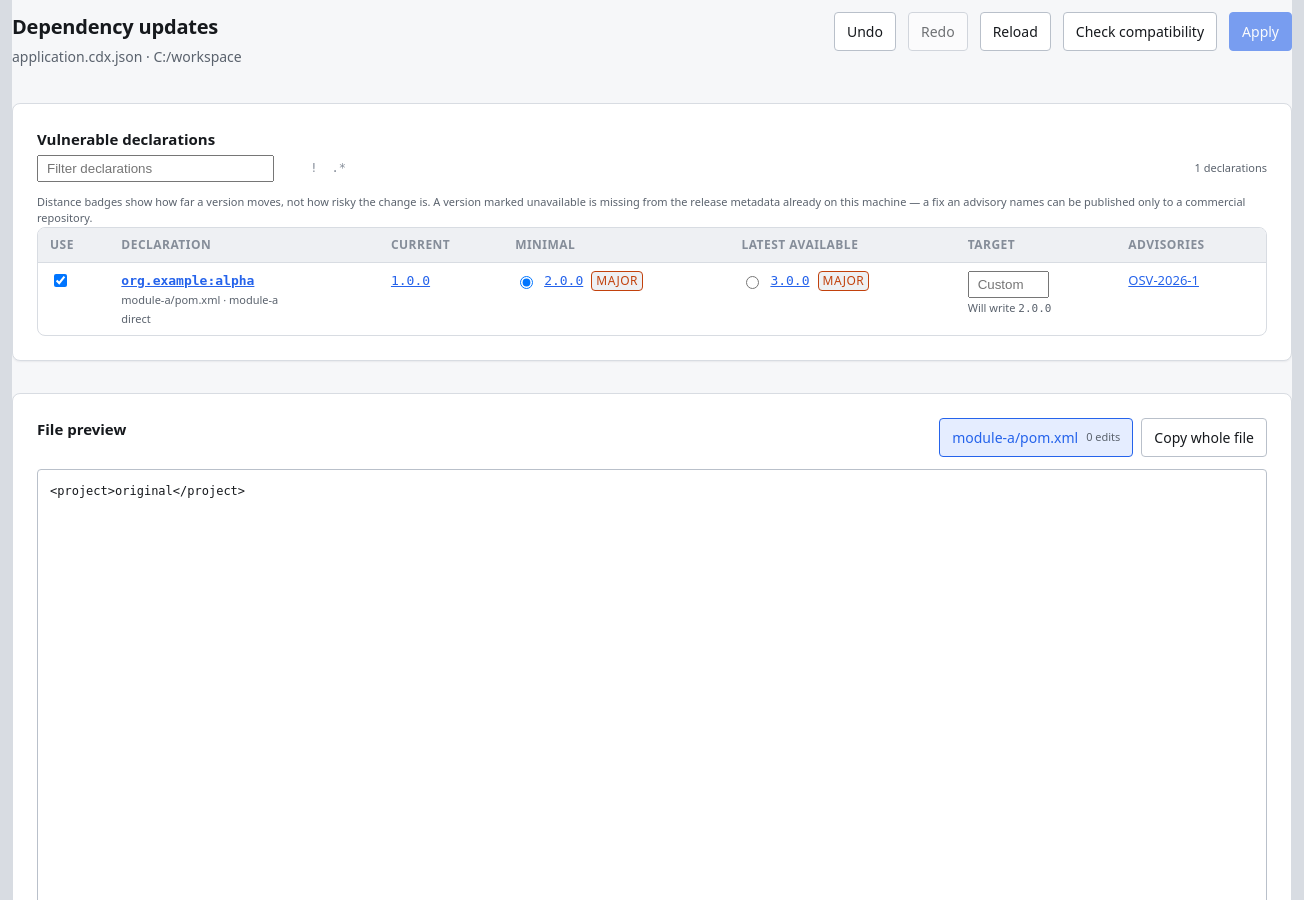
BumpPage › shows nothing rather than everything for a pattern that will not compile
The width and height of the screenshot is (1304, 900).
Expected: the checkbox named "Select org.example:alpha" is shown, [54, 274, 67, 286]
Click the button titled "Match as a regular expression" at point(339, 168), box [326, 158, 352, 178]
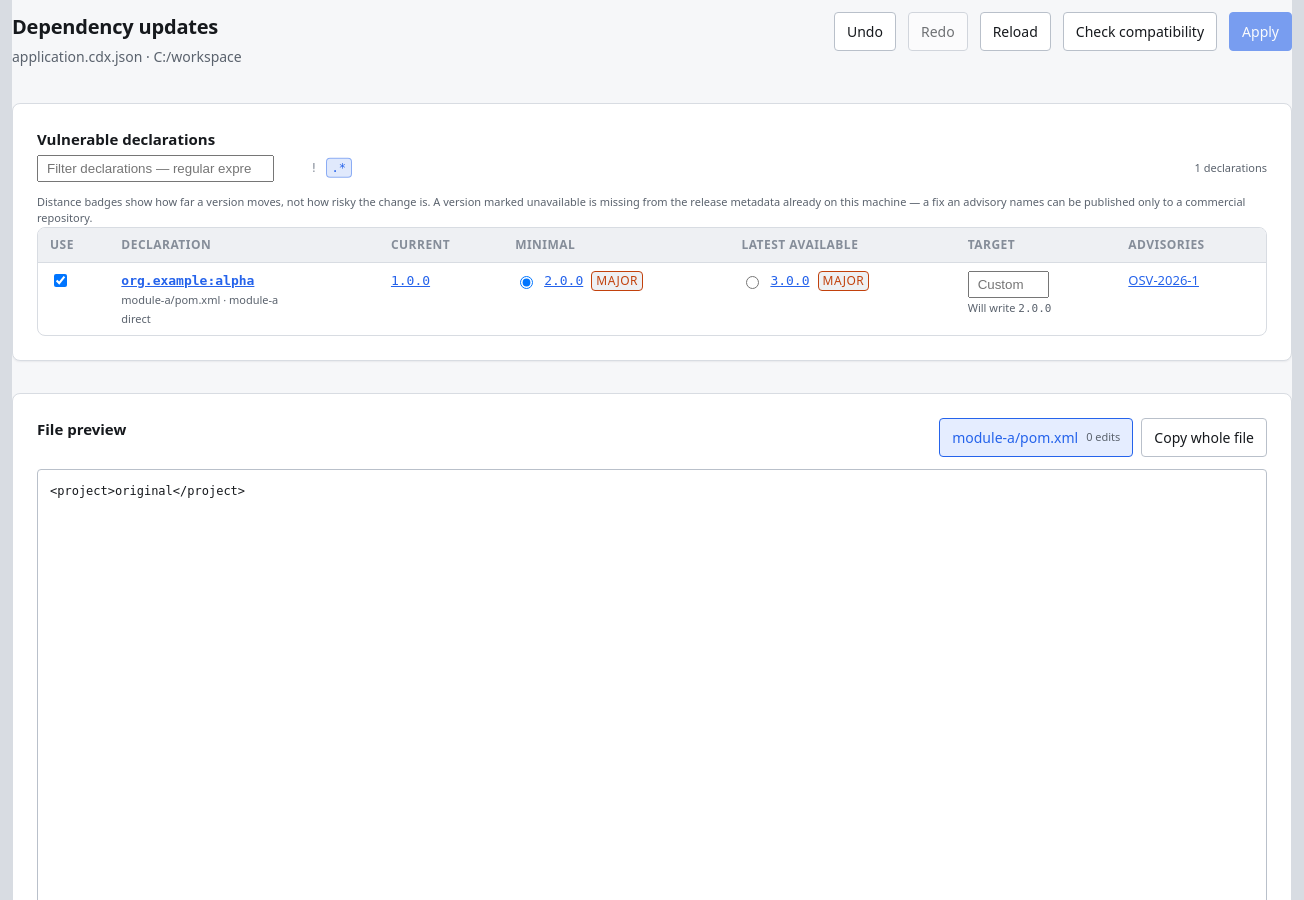
Type "[unclosed" into the search field named "Filter vulnerable declarations" at point(156, 168), box [37, 154, 274, 182]
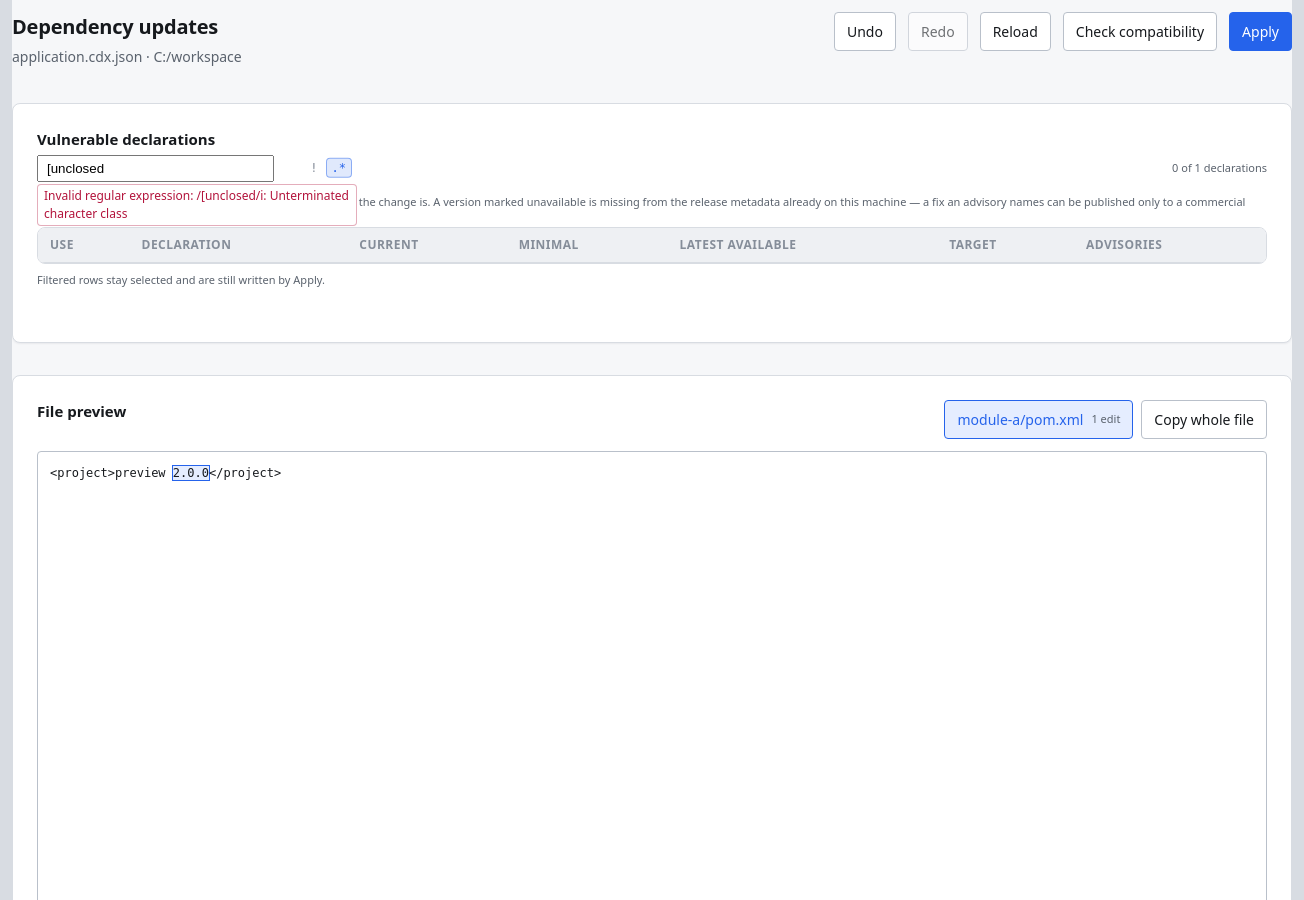
Expected: the text "0 of 1 declarations" is shown, [1172, 160, 1267, 176]
